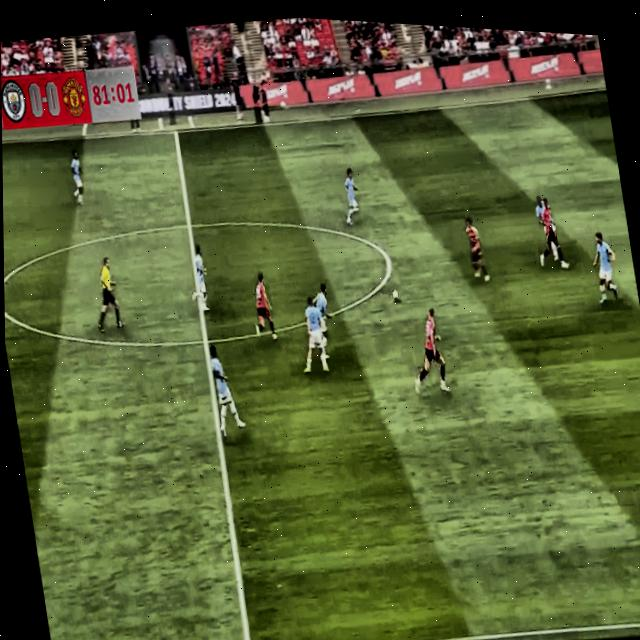ball: (388, 274, 403, 311)
players: (403, 297, 455, 404), (201, 342, 253, 444), (292, 284, 335, 386), (584, 220, 627, 314), (182, 239, 225, 330), (241, 260, 282, 350), (303, 272, 341, 365), (527, 194, 569, 271), (531, 181, 567, 270), (459, 210, 497, 292), (336, 159, 367, 232), (65, 145, 91, 208), (637, 430, 640, 539)
refree: (84, 240, 133, 337)
